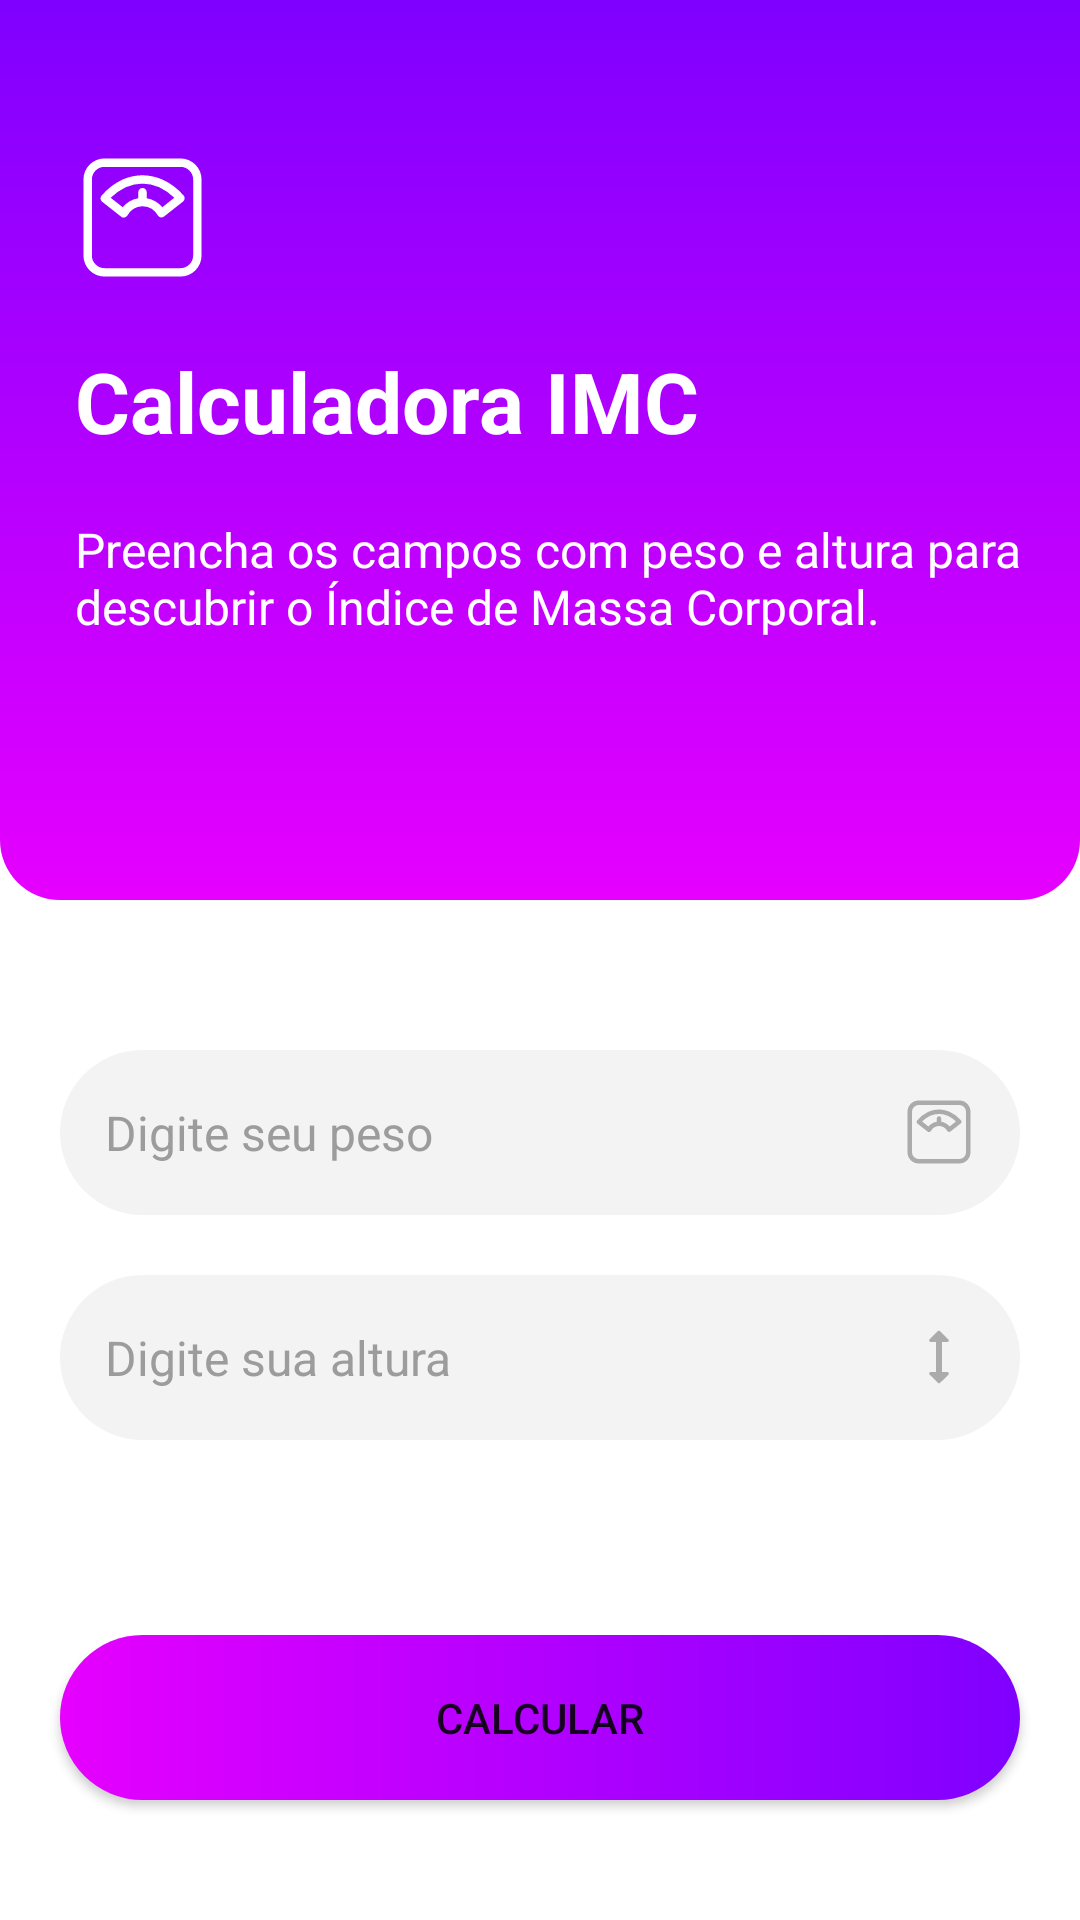

Where icons sit on this 1080px×1920px app screen, as (x1, y1, x2, y2):
weighticon: (83, 158, 202, 277)
